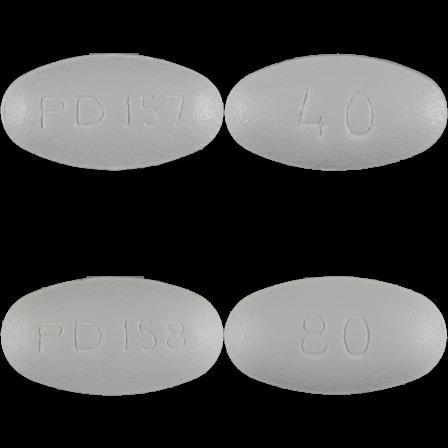0591-3776: (0, 0, 224, 224)
